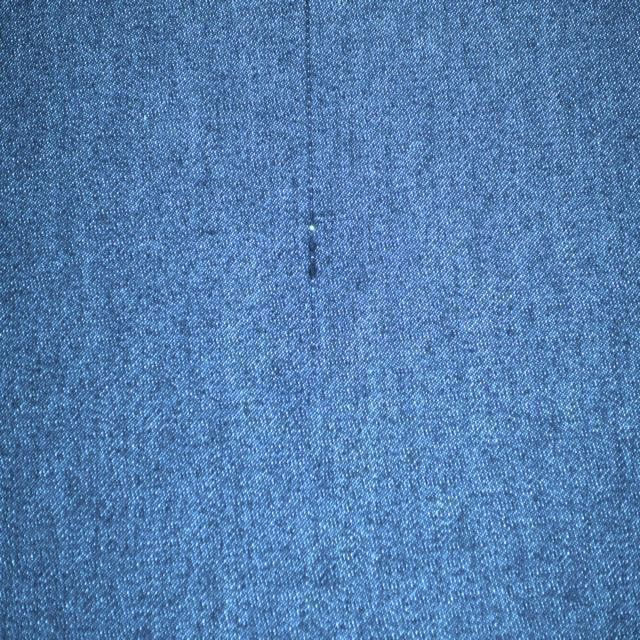defect: (305, 5, 318, 283)
